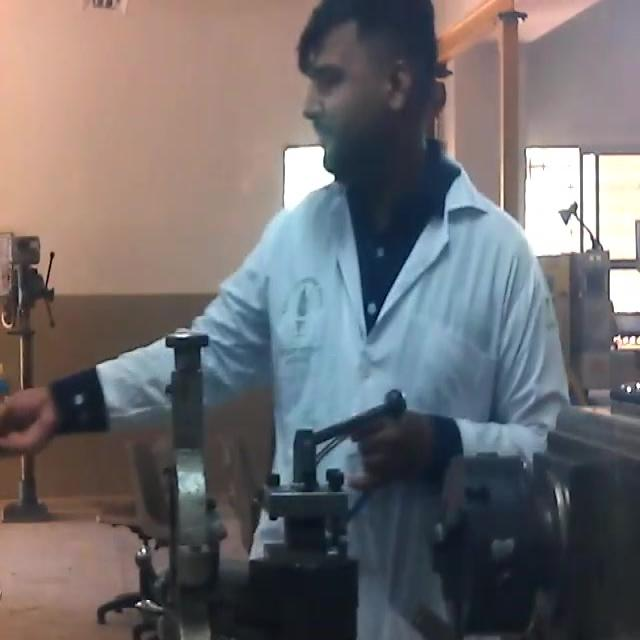labcoat: (97, 150, 570, 640)
